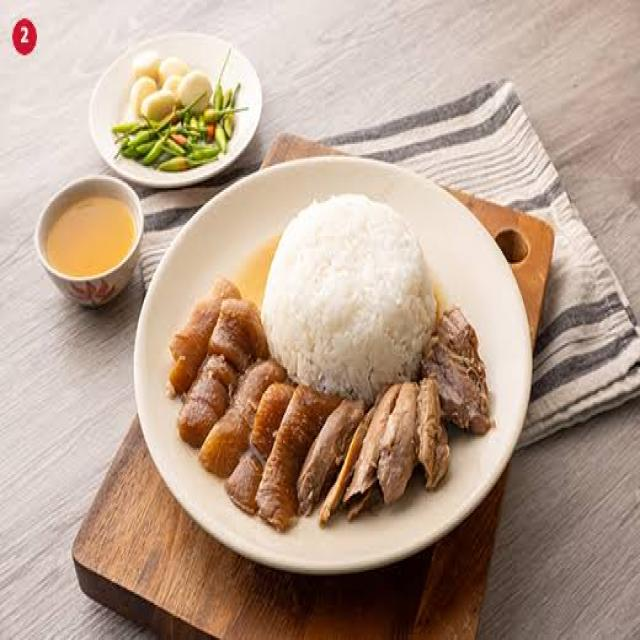carb: (257, 204, 425, 373)
meat: (184, 340, 481, 521)
stewed pork leg on rice: (172, 202, 488, 518)
